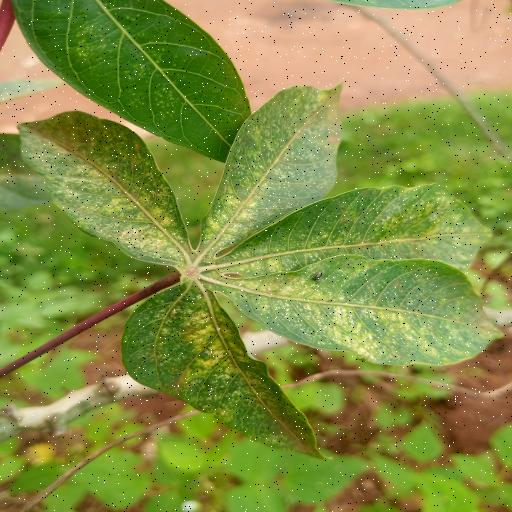Cassava_Mosaic: (17, 80, 512, 456)
